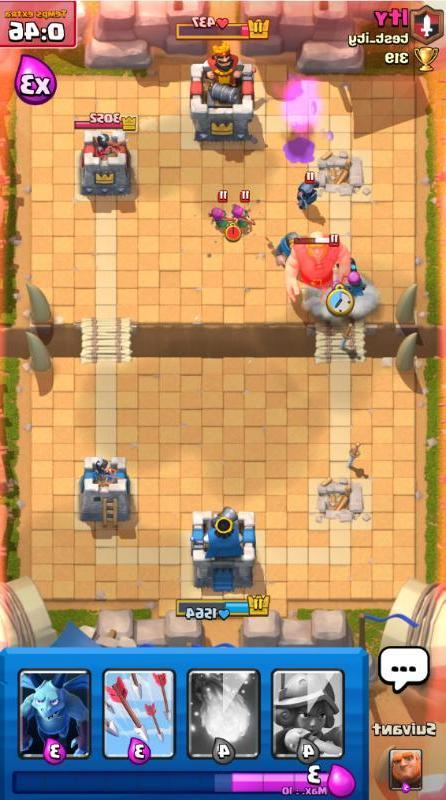enemy_archers: (229, 192, 256, 231), (205, 192, 230, 230)
enemy_giant: (279, 229, 347, 297)
enemy_mini_pekka: (287, 170, 329, 212)
